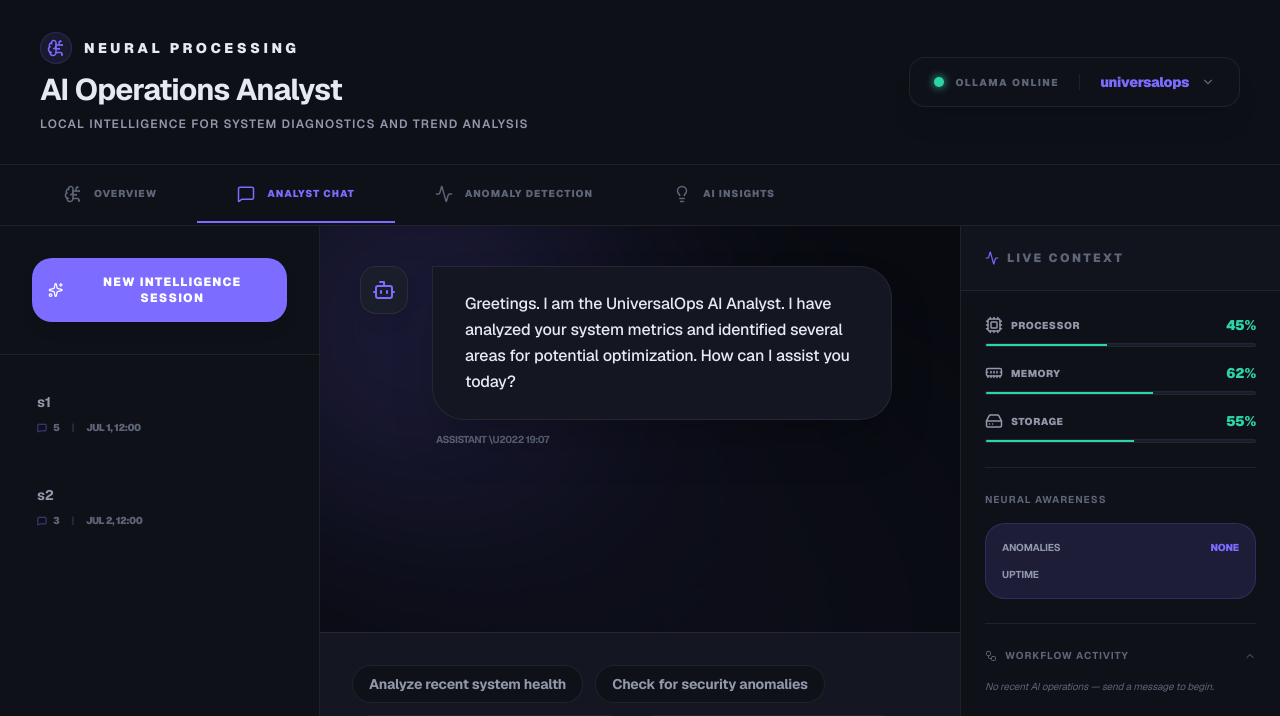
Scenario: AIOps Page › switches to Anomaly Detection tab
Click the tab "Anomaly Detection".
click(514, 195)  # box [395,165,633,225]
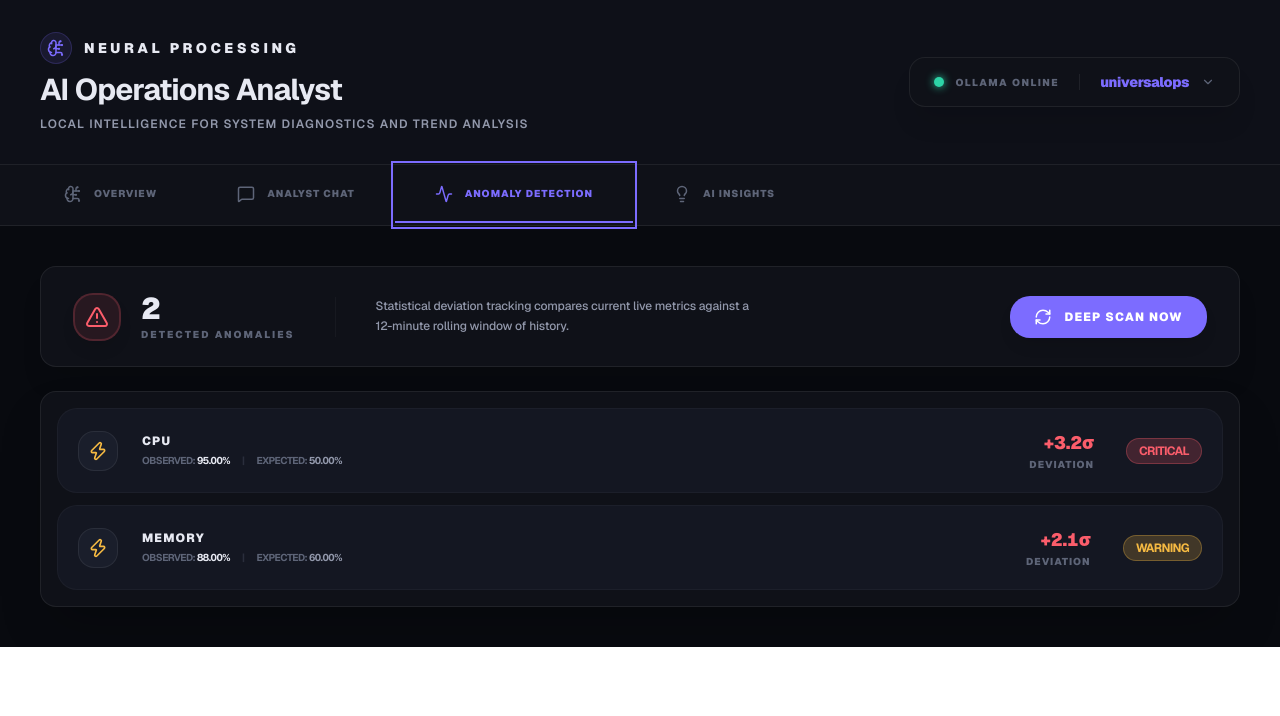
Expected: the heading "MEMORY" is shown, [142,530,205,546]
Expected: the heading "CPU" is shown, [142,433,171,449]
